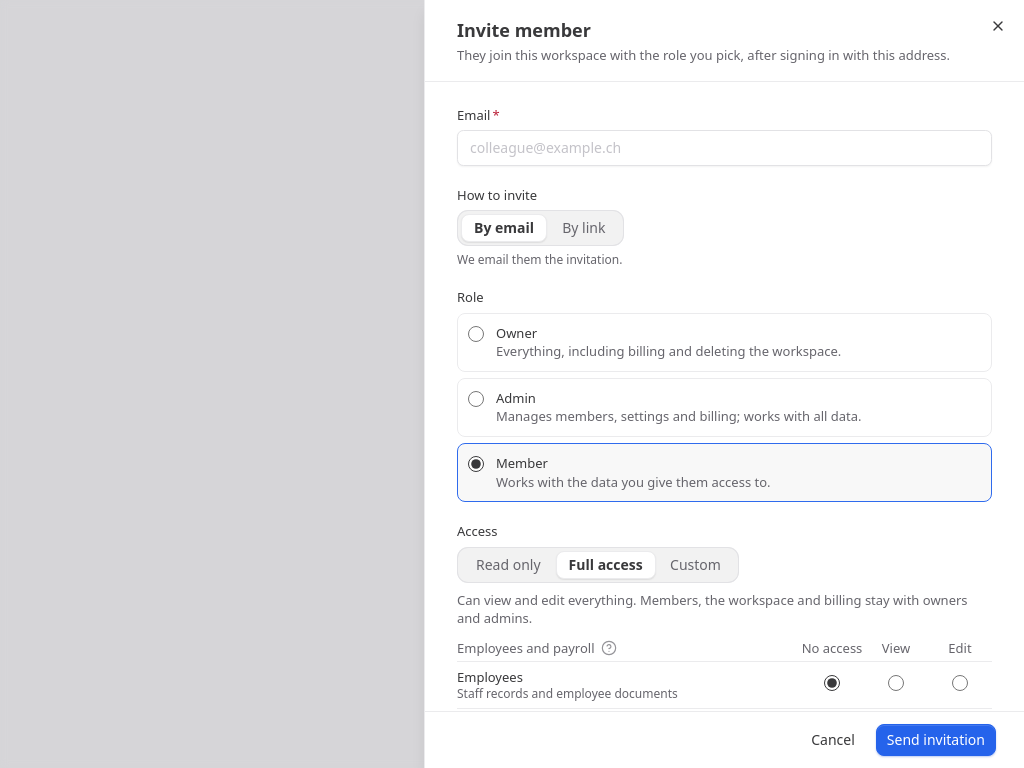
Test: the Read only preset sends its scopes and says what they allow
The width and height of the screenshot is (1024, 768).
Later steps or results of the test are not shown.
Click the 1st radio button labelled "Read only" at (508, 564), box [476, 555, 541, 574]
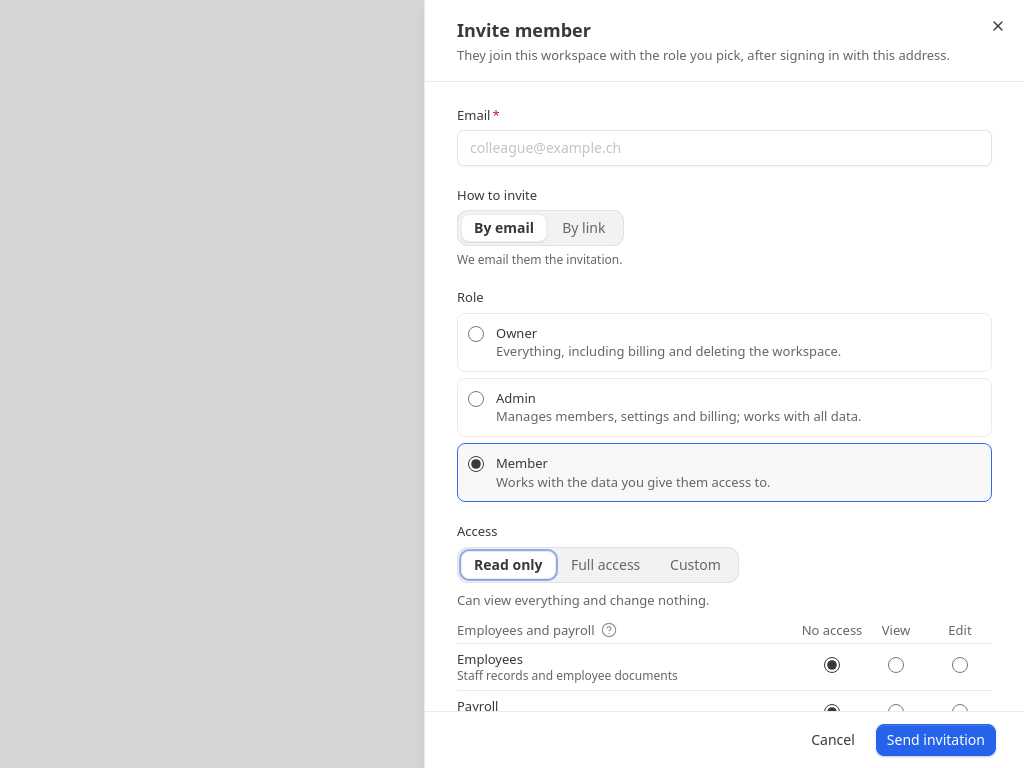
expect the text "Can view everything and change nothing." is shown: met, box [457, 591, 710, 609]
